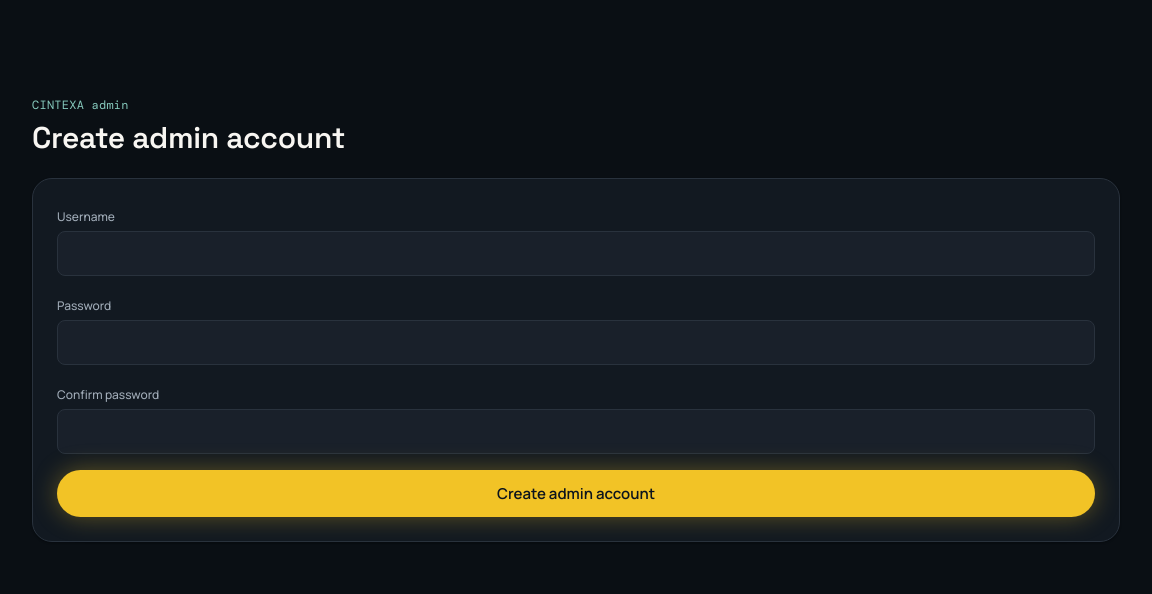
it: one-time links › setup link: creates the admin, signs in, and cleans the URL
The width and height of the screenshot is (1152, 594).
In the field labelled "Username": (576, 253) [57,230,1095,276], type "kyle.admin"
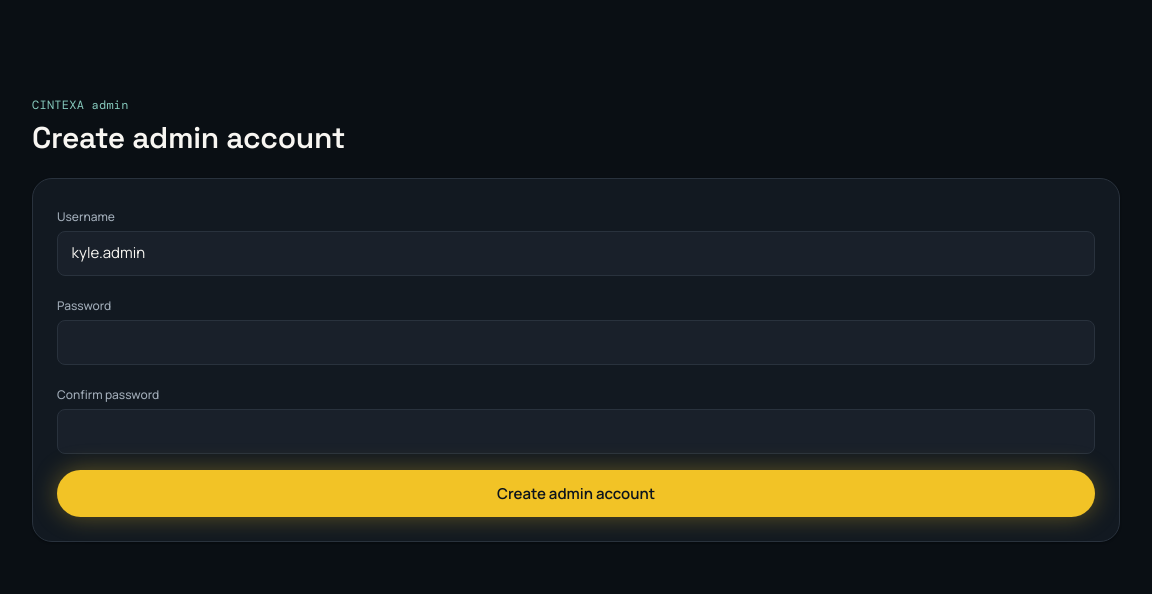
In the password field labelled "Password": (576, 342) [57,320,1095,365], type "Adm1n!Strong-Pass-99"
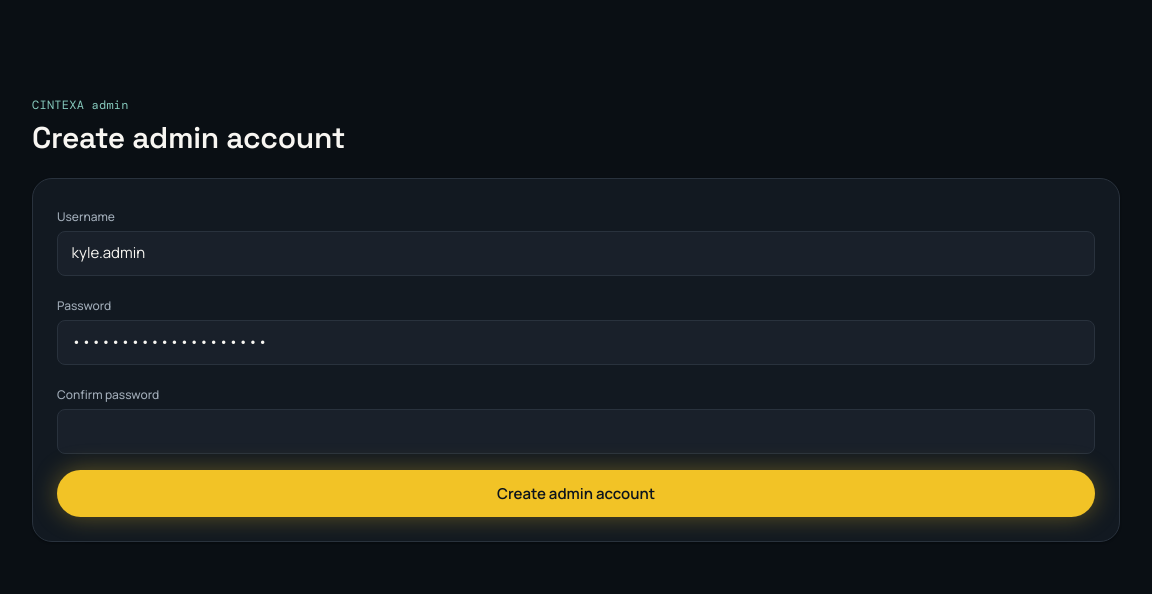
In the password field labelled "Confirm password": (576, 432) [57,409,1095,454], type "different"
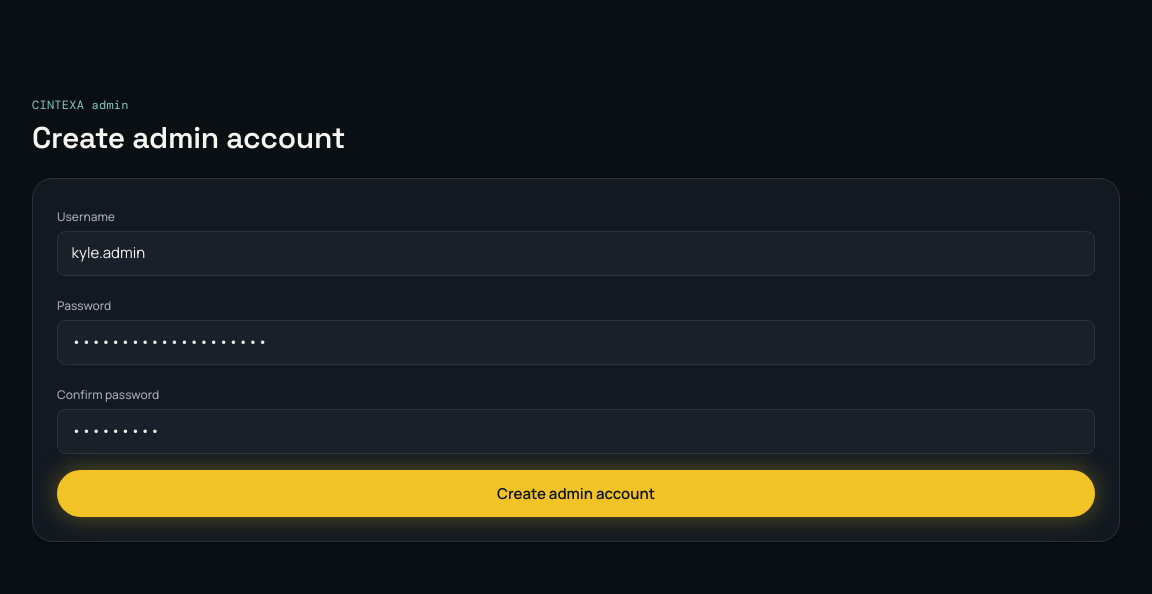
Click the button "Create admin account": (576, 494) [57,470,1095,517]
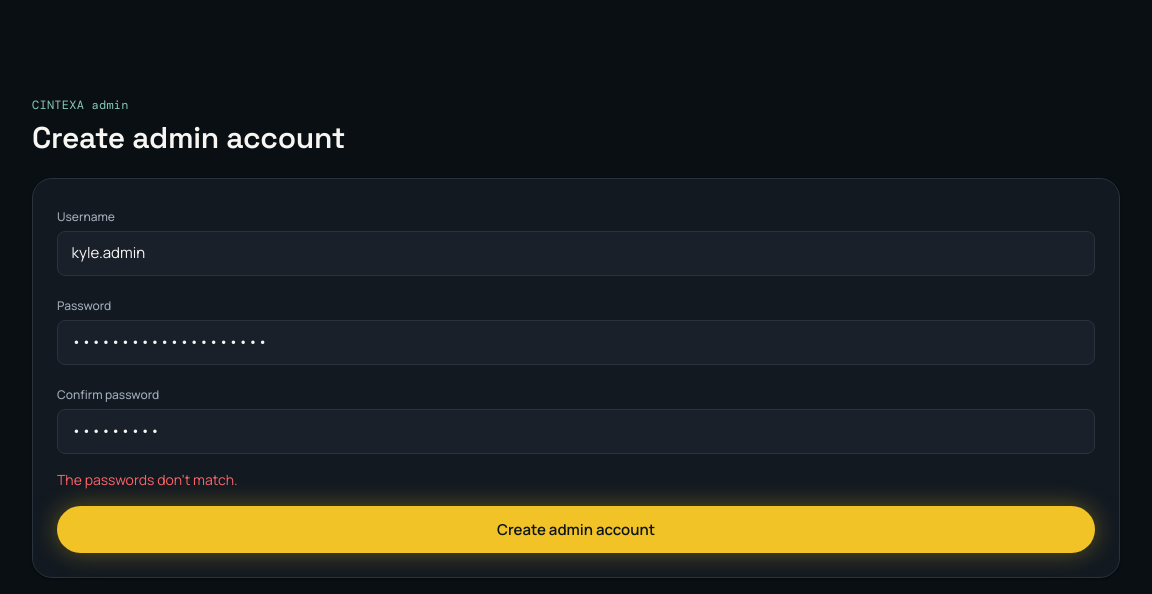
expect the message shows "don’t match": met, box [57,470,238,489]
In the password field labelled "Confirm password": (576, 432) [57,409,1095,454], type "Adm1n!Strong-Pass-99"
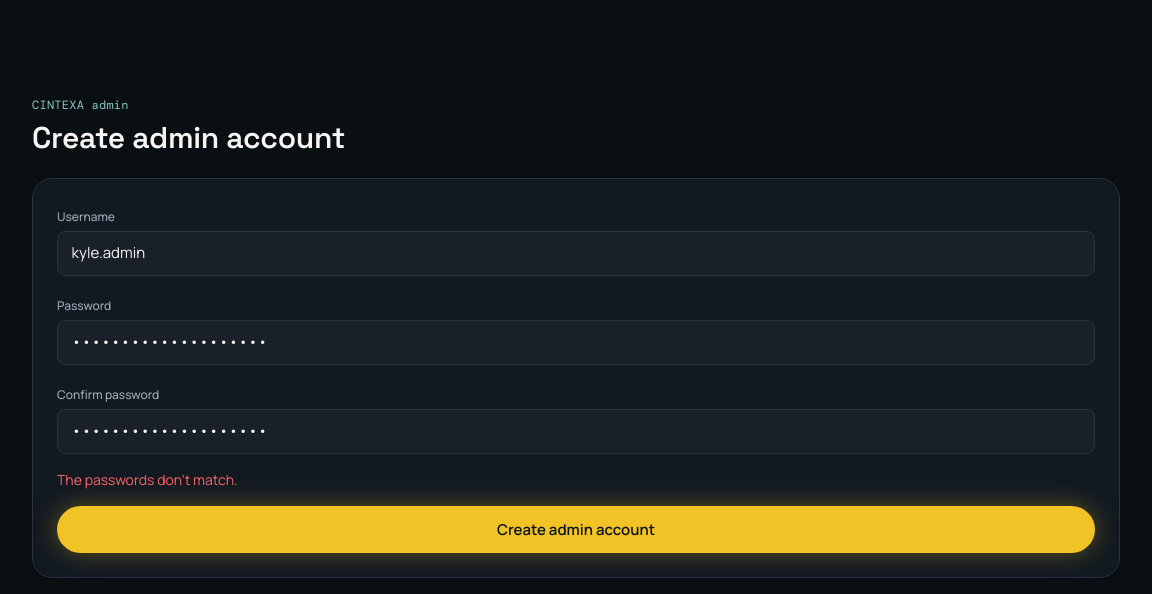
Click the button "Create admin account": (576, 530) [57,506,1095,553]
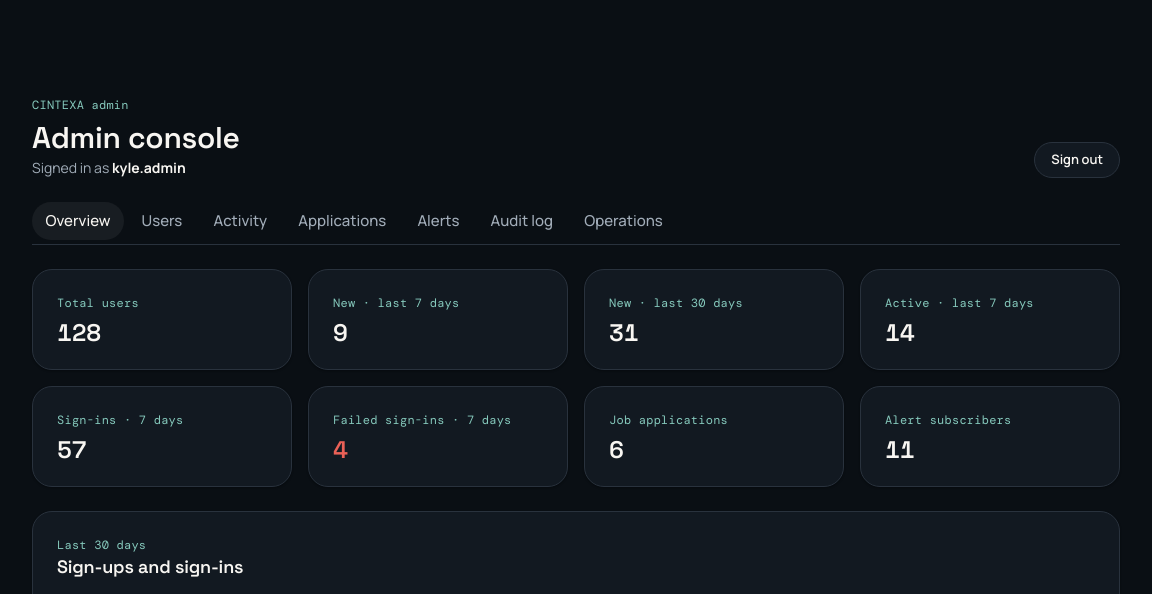
expect the heading "Admin console" is shown: met, box [32,122,240,154]
